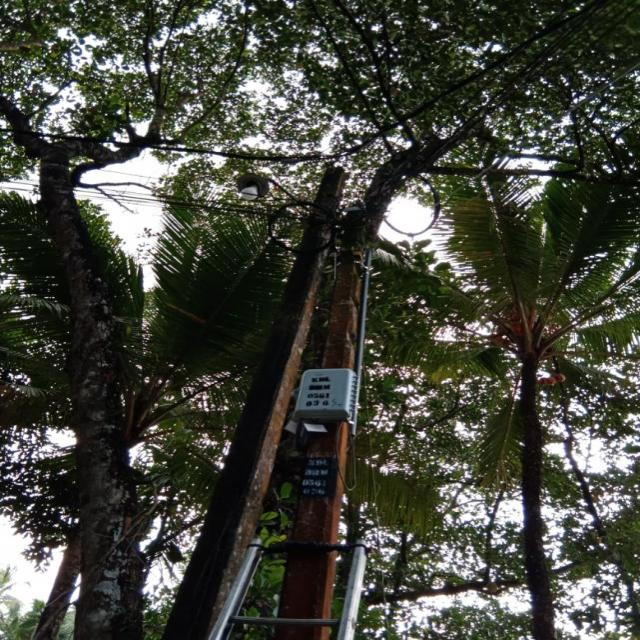light_pole: (150, 150, 339, 631), (278, 204, 380, 640)
